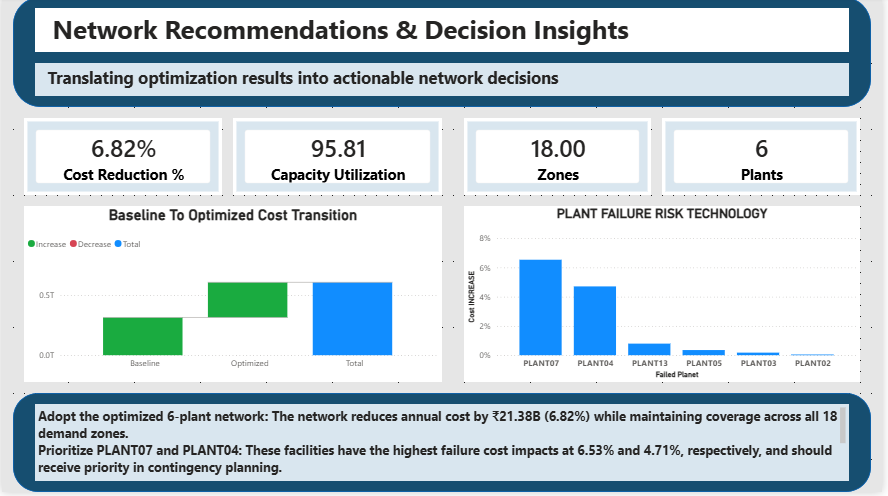

What the dashboard file says about the page in this screenshot:
{"tool":"powerbi","page":{"name":"Decisions And Recommedations","canvas":[1280,720],"ordinal":4},"visuals":[{"type":"waterfallChart","title":"Baseline To Optimized Cost Transition","fields":{"Category":["network_optimization_kpis.Scenario"],"Y":["Avg(network_optimization_kpis.Annual_Cost_INR)"]},"box":[32,304,608,256],"z":0},{"type":"clusteredColumnChart","title":"PLANT FAILURE RISK TECHNOLOGY","fields":{"Category":["model_a_resilience_analysis.failed_plant"],"Y":["Table.Failuree Cost Impact %"]},"box":[672,304,576,256],"z":1000},{"type":"shape","box":[16,0,1248,160],"z":3000},{"type":"textbox","box":[48,16,1184,64],"z":4000},{"type":"textbox","box":[48,96,1184,48],"z":5000},{"type":"cardVisual","fields":{"Data":["Avg(network_optimization_kpis.Zones)"]},"box":[672,176,272,112],"z":6000},{"type":"cardVisual","fields":{"Data":["Table.Cost Reduction %"]},"box":[32,176,288,112],"z":7000},{"type":"cardVisual","fields":{"Data":["Max(optimized_capacity_utilization.Capacity_Utilization_Pct)"]},"box":[336,176,304,112],"z":8000},{"type":"cardVisual","fields":{"Data":["Min(network_optimization_kpis.Open_Plants)"]},"box":[960,176,288,112],"z":9000},{"type":"shape","box":[16,576,1248,144],"z":9001},{"type":"textbox","box":[48,592,1184,112],"z":9002}]}

Visuals, with their boxes in screenshot pixels (x1, y1, x2, y2), scaled from the page's 1280x720 canvas onto the 888x496 screenshot:
"Baseline To Optimized Cost Transition" waterfallChart: <bbox>22, 209, 444, 386</bbox>
"PLANT FAILURE RISK TECHNOLOGY" clusteredColumnChart: <bbox>466, 209, 866, 386</bbox>
shape: <bbox>11, 0, 877, 110</bbox>
textbox: <bbox>33, 11, 855, 55</bbox>
textbox: <bbox>33, 66, 855, 99</bbox>
cardVisual - Avg(network_optimization_kpis.Zones): <bbox>466, 121, 655, 198</bbox>
cardVisual - Table.Cost Reduction %: <bbox>22, 121, 222, 198</bbox>
cardVisual - Max(optimized_capacity_utilization.Capacity_Utilization_Pct): <bbox>233, 121, 444, 198</bbox>
cardVisual - Min(network_optimization_kpis.Open_Plants): <bbox>666, 121, 866, 198</bbox>
shape: <bbox>11, 397, 877, 495</bbox>
textbox: <bbox>33, 408, 855, 485</bbox>
